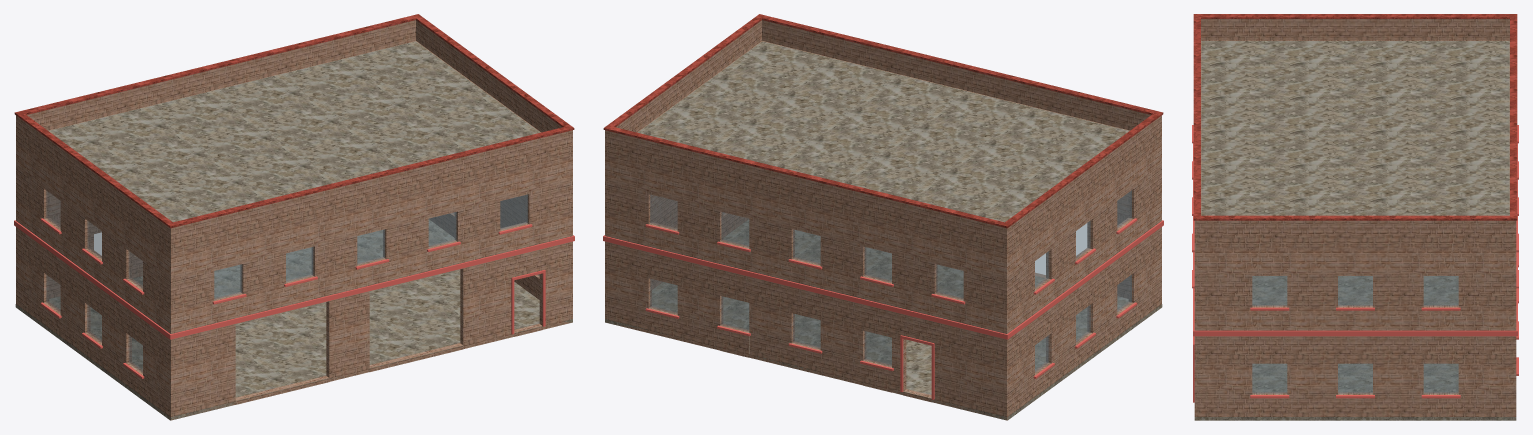
File: crash-station.glass-v1.lod1.glb
The picture shows the model from 3 angles, left to right: view 1: azimuth 30°, elevation 25°; view 2: azimuth 150°, elevation 25°; view 3: azimuth 270°, elevation 25°; orthographic projection. The views are drawn at different scales.
Visible parts, largest first — view 1: crash-station; view 2: crash-station; view 3: crash-station.
Part boxes in pixels (x1,y1,x2,y2): crash-station: (14, 14, 574, 420); crash-station: (603, 14, 1163, 420); crash-station: (1192, 14, 1518, 420).
Size of the model in its own units: 18.2 by 8.35 by 12.2.
Materials: 4 (2 with a texture image).
